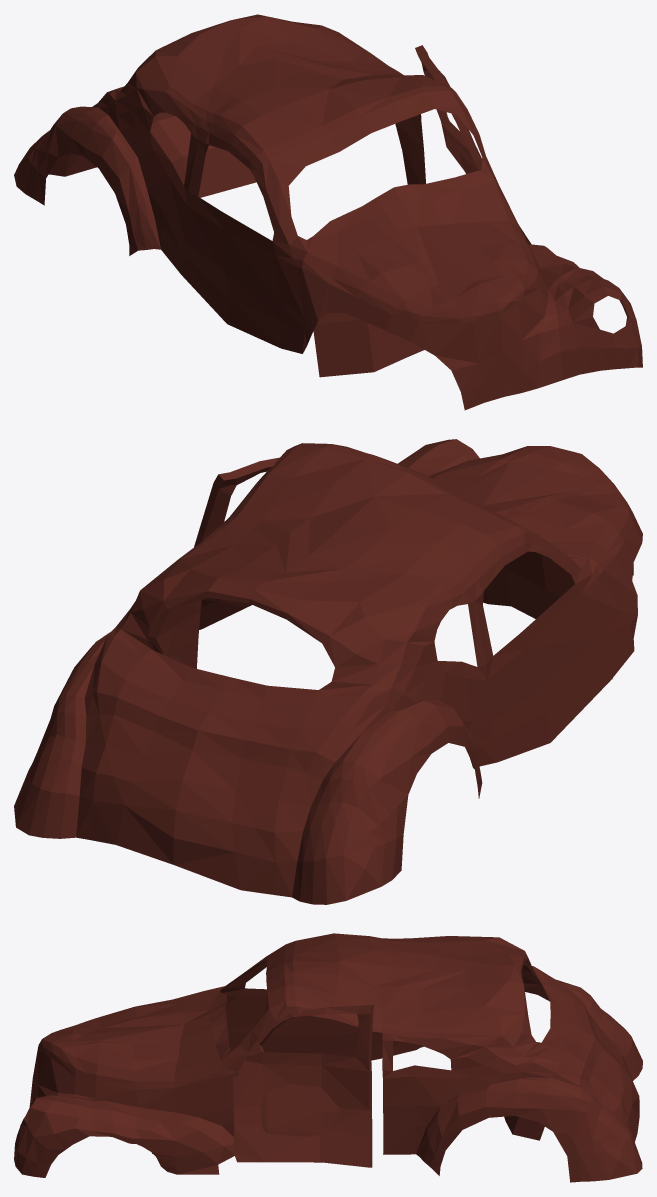
The model's file is ADDON_CANYONOBJECT_CAR_01.OBJ.
3 views of the same model, one above another, from view 1: azimuth 30°, elevation 25°; view 2: azimuth 150°, elevation 25°; view 3: azimuth 270°, elevation 25° (orthographic). The views are drawn at different scales.
Parts seen in each view (by area): view 1: ADDON_CANYONOBJECT_CAR_01; view 2: ADDON_CANYONOBJECT_CAR_01; view 3: ADDON_CANYONOBJECT_CAR_01.
Boxes of the visible parts, bbox=[...] form: ADDON_CANYONOBJECT_CAR_01: bbox=[14, 14, 642, 410]; ADDON_CANYONOBJECT_CAR_01: bbox=[14, 439, 642, 904]; ADDON_CANYONOBJECT_CAR_01: bbox=[14, 933, 642, 1182].
Size of the model in its own units: 3.05 by 1.72 by 5.61.
